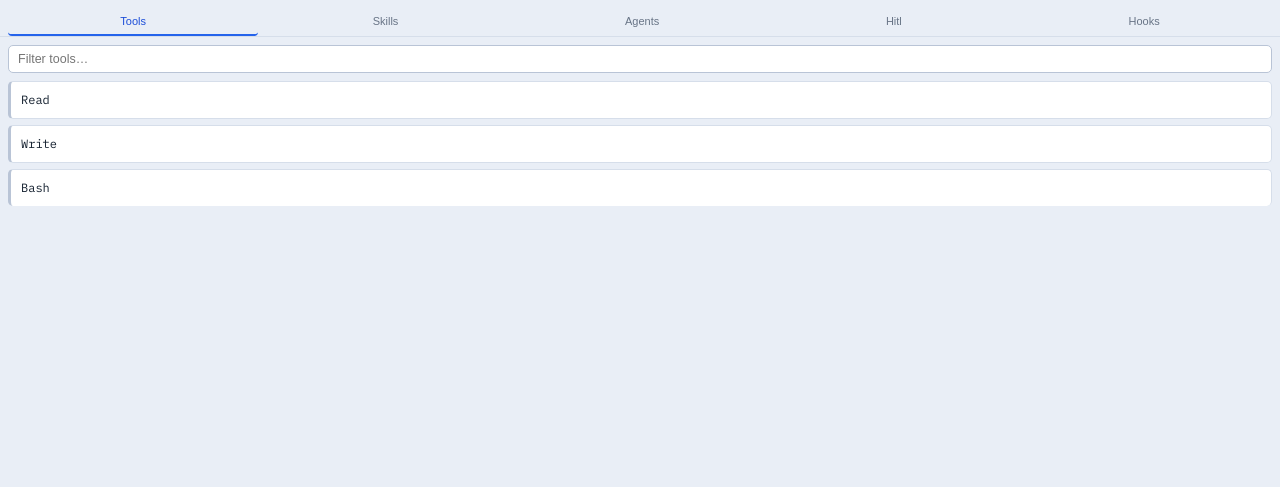
Scenario: Palette › switching_tabs_changes_the_listed_items
Check: the list item with test id "palette-item-Read" is shown, box [8,81,1272,119]
What coordinates should you click on to do the following:
click the tab with test id "palette-tab-hooks"
I would click on:
 (1144, 22)
Its box is [1016,8,1272,36].
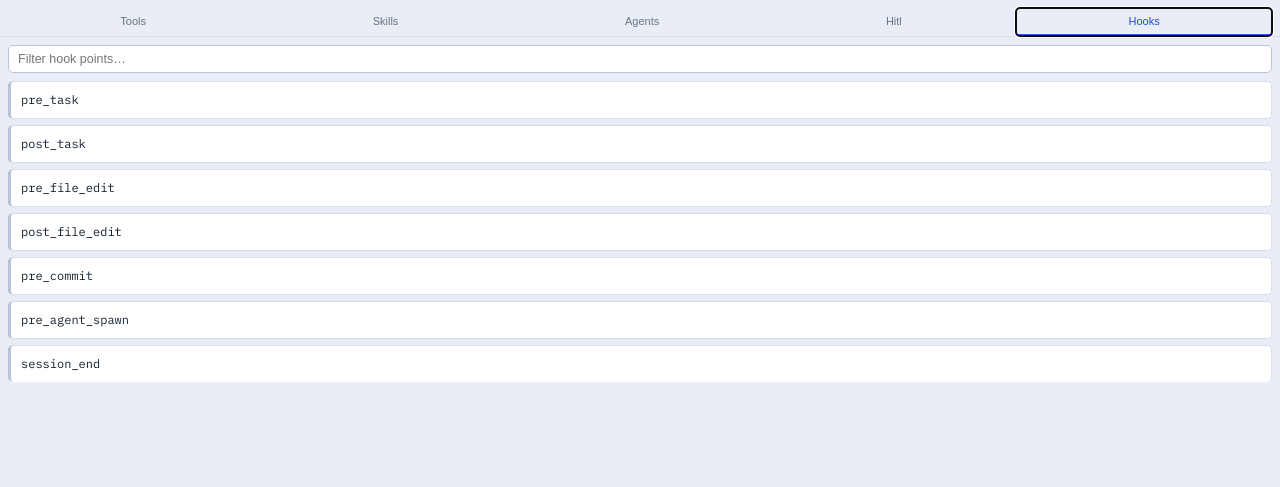
Check: the list item with test id "palette-item-pre_task" is shown, box [8,81,1272,119]
Check: the list item with test id "palette-item-Read" is gone
What coordinates should you click on to do the following:
click the tab with test id "palette-tab-hitl"
I would click on:
 (894, 22)
Its box is [774,8,1014,36].
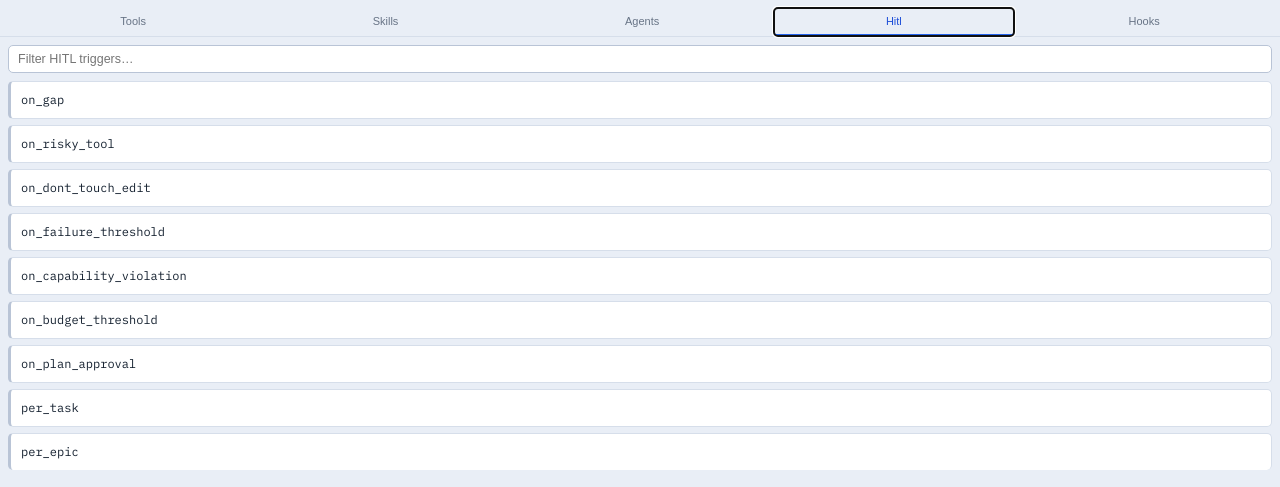
Check: the list item with test id "palette-item-on_gap" is shown, box [8,81,1272,119]
Check: the list item with test id "palette-item-pre_task" is gone
